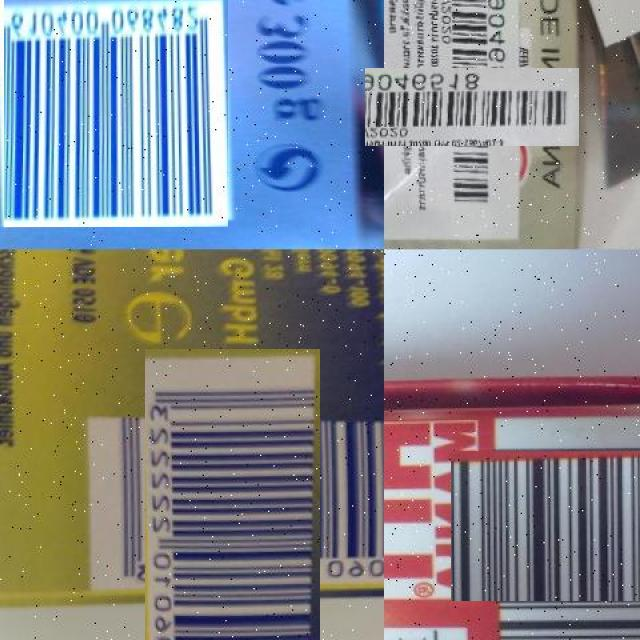Barcode: (113, 380, 352, 619), (3, 0, 230, 226), (470, 431, 640, 620), (399, 34, 545, 181)
